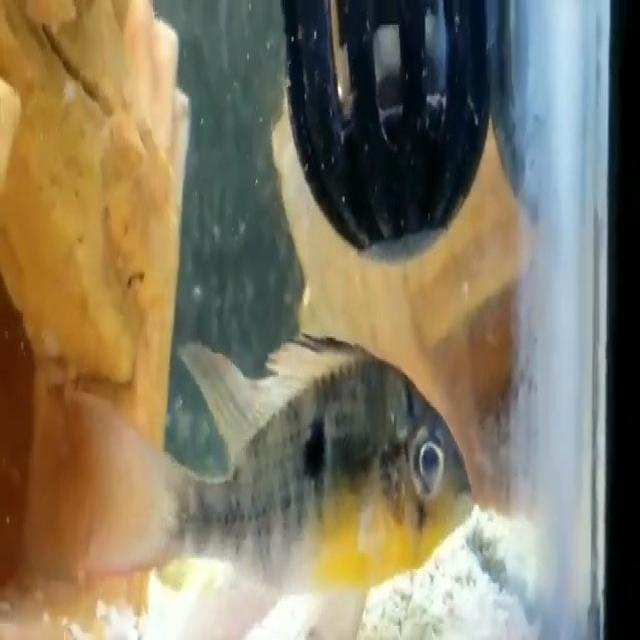fish: (58, 332, 478, 640)
